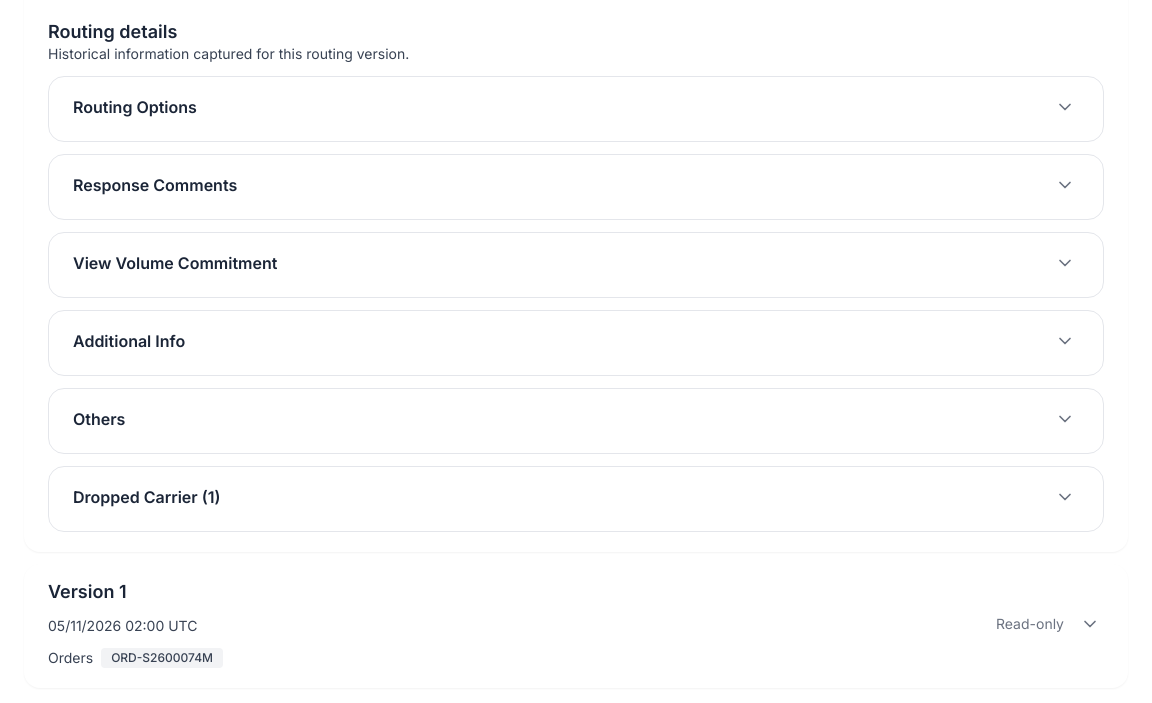
it: RoutingHistoryTab (LINX-15895) › opens and closes versions independently of each other
The width and height of the screenshot is (1152, 703).
(page scrolled)
// Opening an older one leaves its neighbours exactly as they were.
Click the button that starts with "Version 1".
click(87, 592)  # box [48,580,1104,668]
(page scrolled)
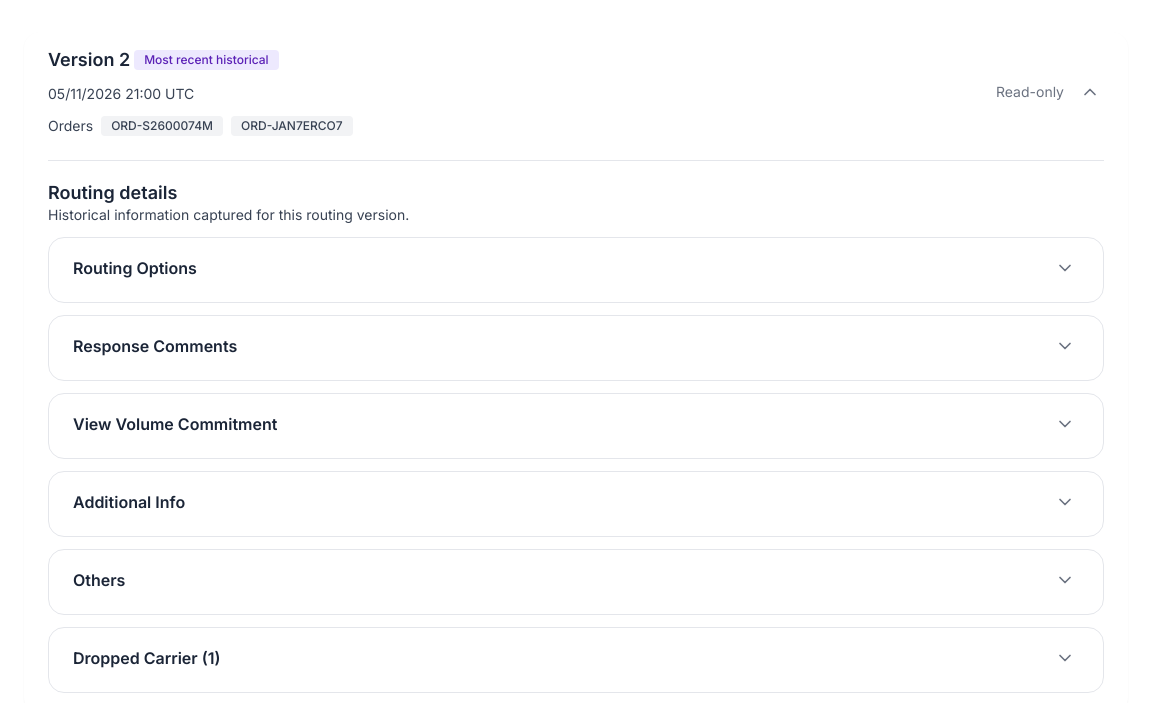
Click the button that starts with "Version 2".
click(89, 60)  # box [48,48,1104,136]
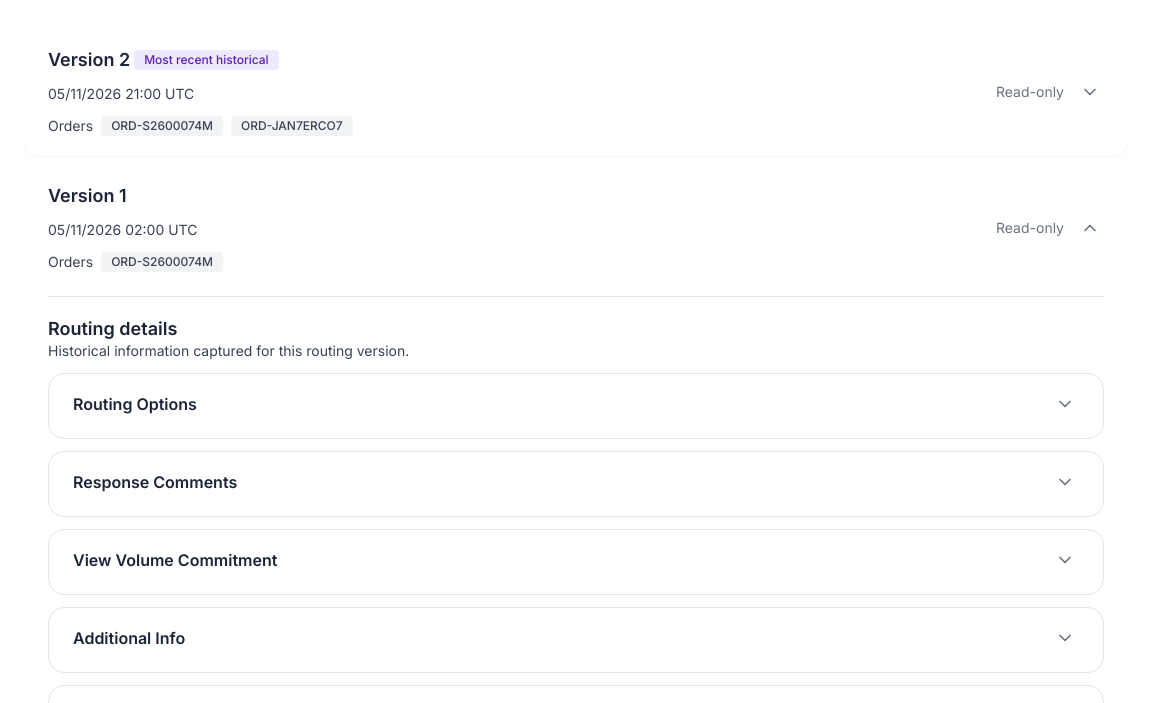
expect the button that starts with "Version 1" is expanded: met, box [48,184,1104,272]
expect the button that starts with "Version 2" is collapsed: met, box [48,48,1104,136]
